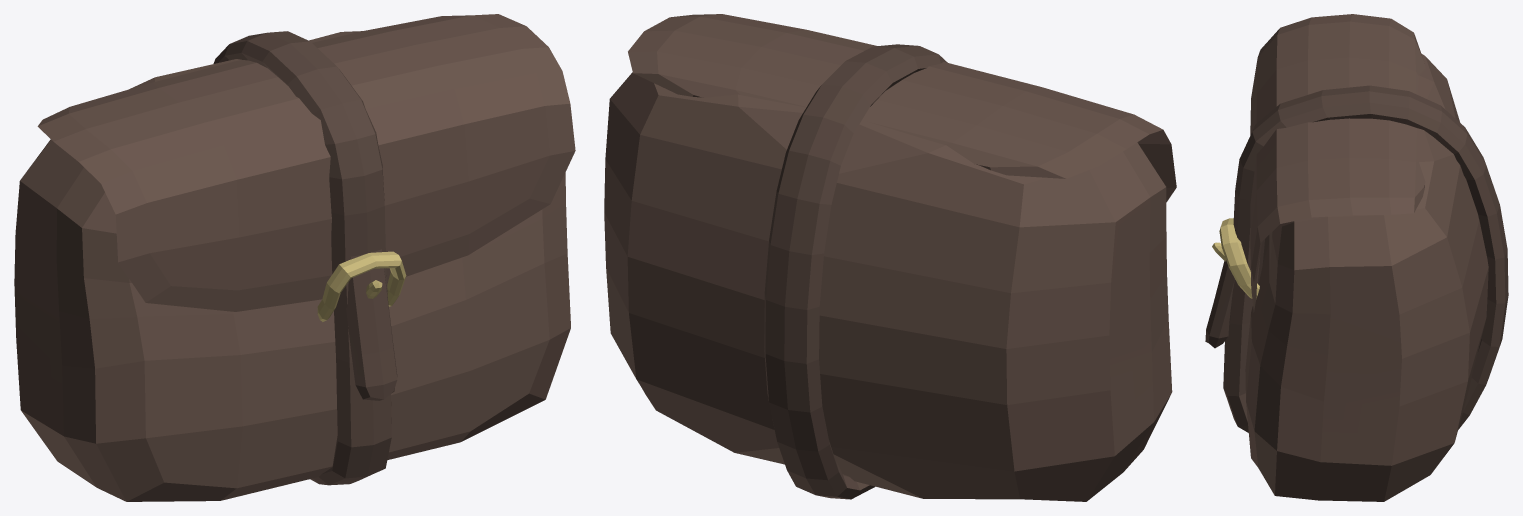
The model's file is Bag.glb.
3 views of the same model, side by side, from view 1: azimuth 30°, elevation 25°; view 2: azimuth 150°, elevation 25°; view 3: azimuth 270°, elevation 25° (orthographic). The views are drawn at different scales.
Visible parts, largest first — view 1: Bag; view 2: Bag; view 3: Bag.
Boxes of the visible parts, x1,y1,x2,y2 form: Bag: [14, 14, 575, 501]; Bag: [604, 14, 1176, 501]; Bag: [1205, 14, 1508, 501].
Size of the model in its own units: 0.45 by 0.3521 by 0.2732.
